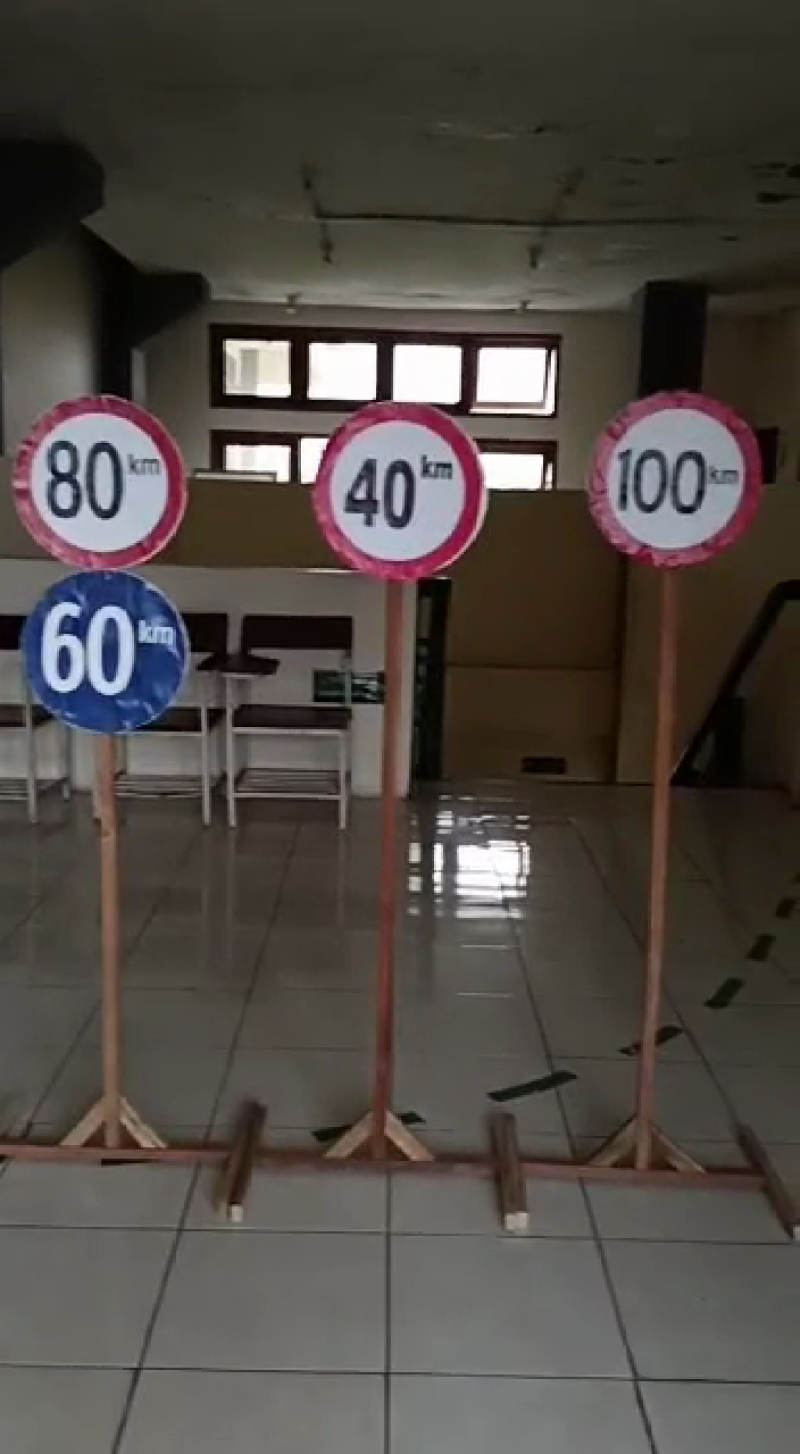batas maksimal 100kmperjam: (581, 392, 759, 581)
batas maksimal 40kmperjam: (309, 381, 481, 594)
batas maksimal 80kmperjam minimal 60kmperjam: (1, 383, 200, 748)
